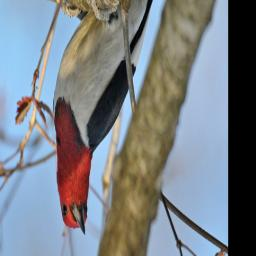Woodpecker: (47, 0, 172, 251)
